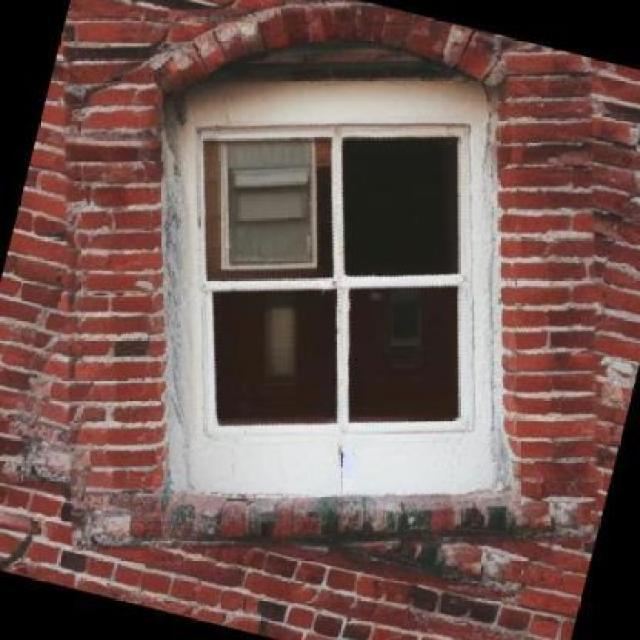window: (162, 76, 498, 487)
